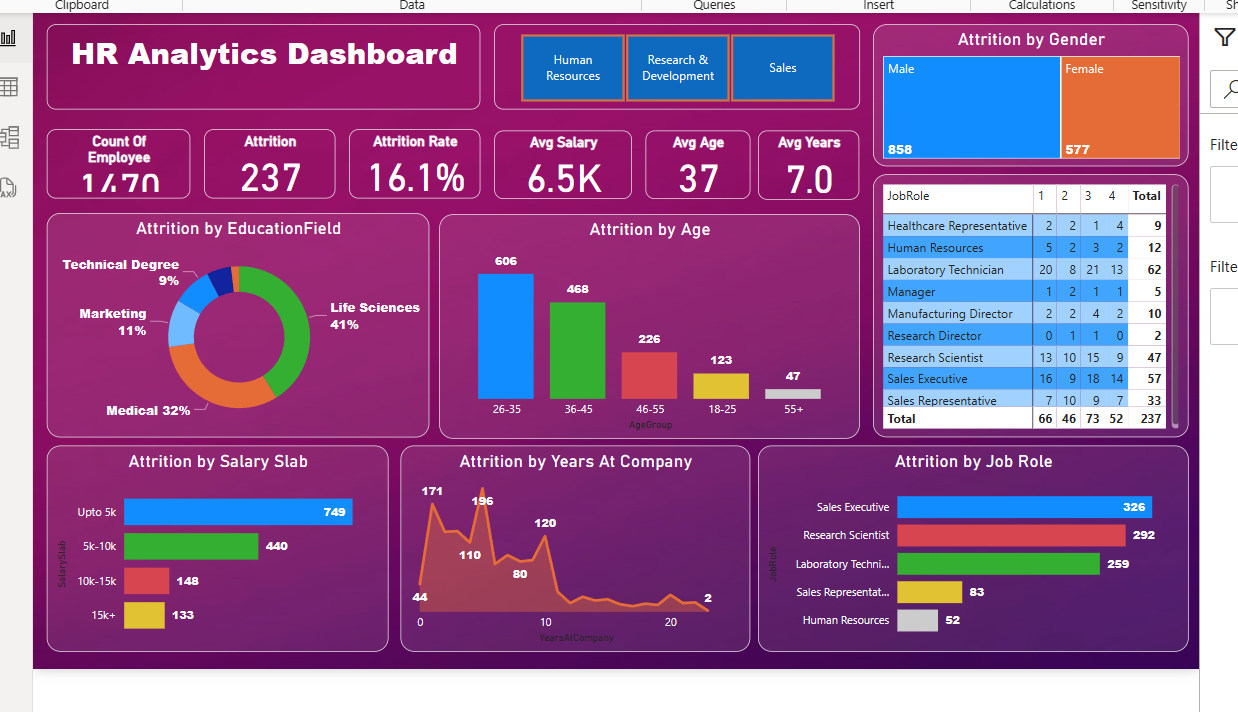

This screenshot's page, from the dashboard's own definition file:
{"tool":"powerbi","page":{"name":"Page 1","canvas":[1280,720],"ordinal":0},"visuals":[{"type":"card","title":"Count Of Employee","fields":{"Values":["CountNonNull(HR_Analytics.EmpID)"]},"box":[15,127.5,157.5,76.2],"z":0},{"type":"card","title":"Attrition","fields":{"Values":["Sum(HR_Analytics.AttritionCount)"]},"box":[187.5,127.5,143.8,76.2],"z":1000},{"type":"card","title":"Attrition Rate","fields":{"Values":["HR_Analytics.AttritionRate"]},"box":[347.5,127.5,143.8,76.2],"z":2000},{"type":"card","title":"Avg Age","fields":{"Values":["Avg(HR_Analytics.Age)"]},"box":[672.5,128.8,115,75],"z":3000},{"type":"card","title":"Avg Salary","fields":{"Values":["Avg(HR_Analytics.MonthlyIncome)"]},"box":[506.2,128.8,151.2,75],"z":4000},{"type":"card","title":"Avg Years","fields":{"Values":["Avg(HR_Analytics.YearsAtCompany)"]},"box":[796.2,128.8,111.2,76.2],"z":5000},{"type":"donutChart","title":"Attrition by EducationField","fields":{"Category":["HR_Analytics.EducationField"],"Y":["CountNonNull(HR_Analytics.Attrition)"]},"box":[15,220,420,246.2],"z":6000},{"type":"columnChart","title":"Attrition by Age","fields":{"Category":["HR_Analytics.AgeGroup"],"Y":["CountNonNull(HR_Analytics.Attrition)"]},"box":[446.2,221.2,461.2,246.2],"z":7000},{"type":"pivotTable","fields":{"Rows":["HR_Analytics.JobRole"],"Columns":["HR_Analytics.JobSatisfaction"],"Values":["Sum(HR_Analytics.AttritionCount)"]},"box":[922.5,177.5,346.2,288.8],"z":8000},{"type":"clusteredBarChart","title":"Attrition by Salary Slab","fields":{"Category":["HR_Analytics.SalarySlab"],"Y":["CountNonNull(HR_Analytics.Attrition)"]},"box":[15,475,375,226.2],"z":9000},{"type":"clusteredBarChart","title":"Attrition by Job Role","fields":{"Category":["HR_Analytics.JobRole"],"Y":["CountNonNull(HR_Analytics.Attrition)"]},"box":[796.2,475,472.5,226.2],"z":10000},{"type":"areaChart","title":"Attrition by Years At Company","fields":{"Category":["HR_Analytics.YearsAtCompany"],"Y":["CountNonNull(HR_Analytics.Attrition)"]},"box":[403.8,475,383.8,226.2],"z":11000},{"type":"treemap","title":"Attrition by Gender","fields":{"Values":["CountNonNull(HR_Analytics.Attrition)"],"Group":["HR_Analytics.Gender"]},"box":[922.5,12.5,346.2,156.2],"z":12000},{"type":"slicer","fields":{"Values":["HR_Analytics.Department"]},"box":[506.2,12.5,401.2,93.8],"z":13000},{"type":"textbox","box":[15,12.5,476.2,93.8],"z":14000}]}

Visuals, with their boxes in screenshot pixels (x1, y1, x2, y2):
"Count Of Employee" card: <region>43, 140, 188, 210</region>
"Attrition" card: <region>202, 140, 334, 210</region>
"Attrition Rate" card: <region>349, 140, 481, 210</region>
"Avg Age" card: <region>648, 141, 754, 210</region>
"Avg Salary" card: <region>495, 141, 634, 210</region>
"Avg Years" card: <region>762, 141, 864, 211</region>
"Attrition by EducationField" donutChart: <region>43, 225, 429, 451</region>
"Attrition by Age" columnChart: <region>440, 226, 864, 453</region>
pivotTable - HR_Analytics.JobRole x HR_Analytics.JobSatisfaction: <region>878, 186, 1196, 452</region>
"Attrition by Salary Slab" clusteredBarChart: <region>43, 460, 388, 668</region>
"Attrition by Job Role" clusteredBarChart: <region>762, 460, 1196, 668</region>
"Attrition by Years At Company" areaChart: <region>401, 460, 754, 668</region>
"Attrition by Gender" treemap: <region>878, 34, 1196, 178</region>
slicer - HR_Analytics.Department: <region>495, 34, 864, 120</region>
textbox: <region>43, 34, 481, 120</region>
